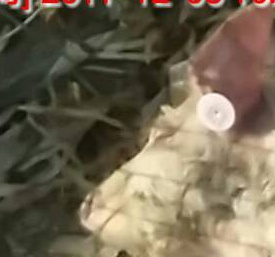text: (187, 84, 247, 140)
